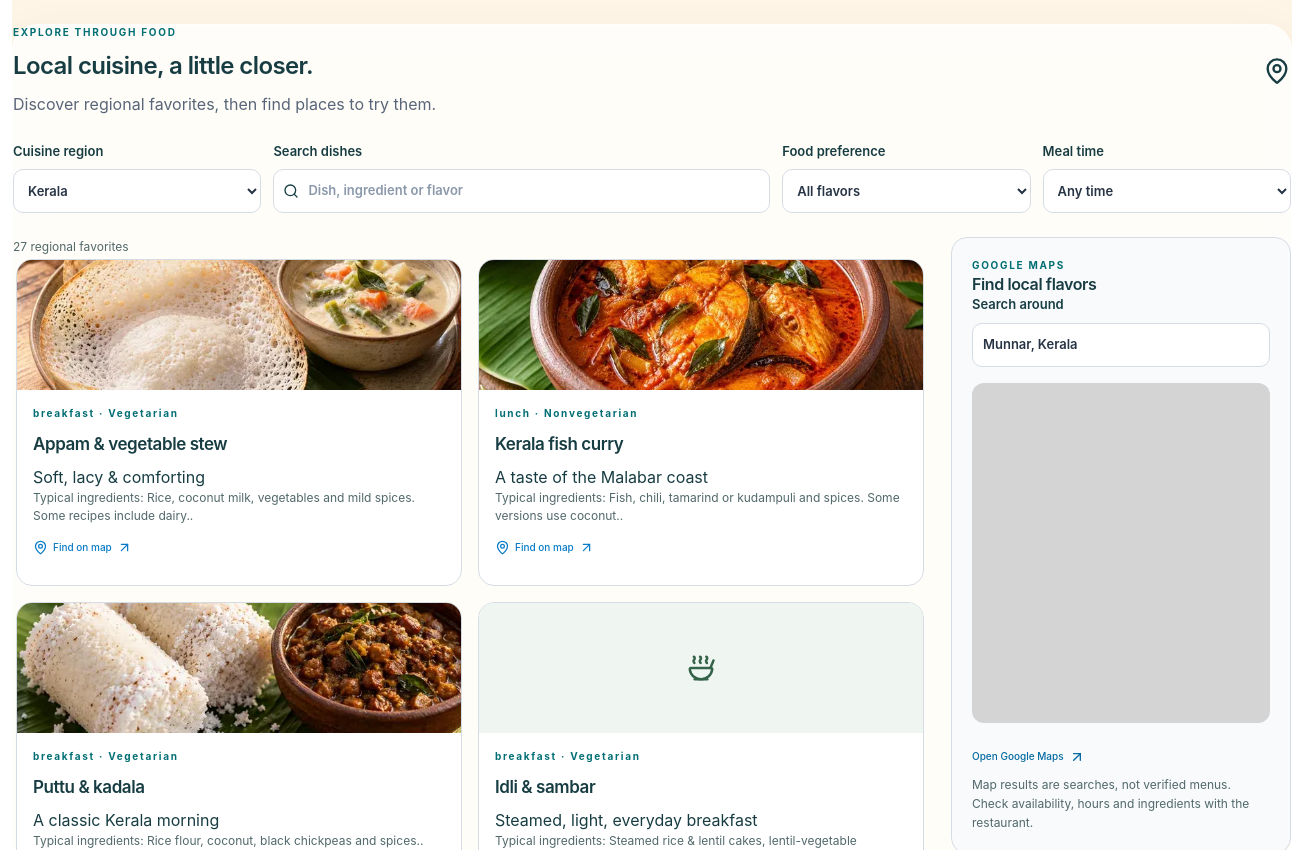
Test: filters dishes and updates Google Maps for the selected dish and destination
Type "puttu" into the field labelled "Search dishes" at (522, 191), box [273, 169, 770, 213]
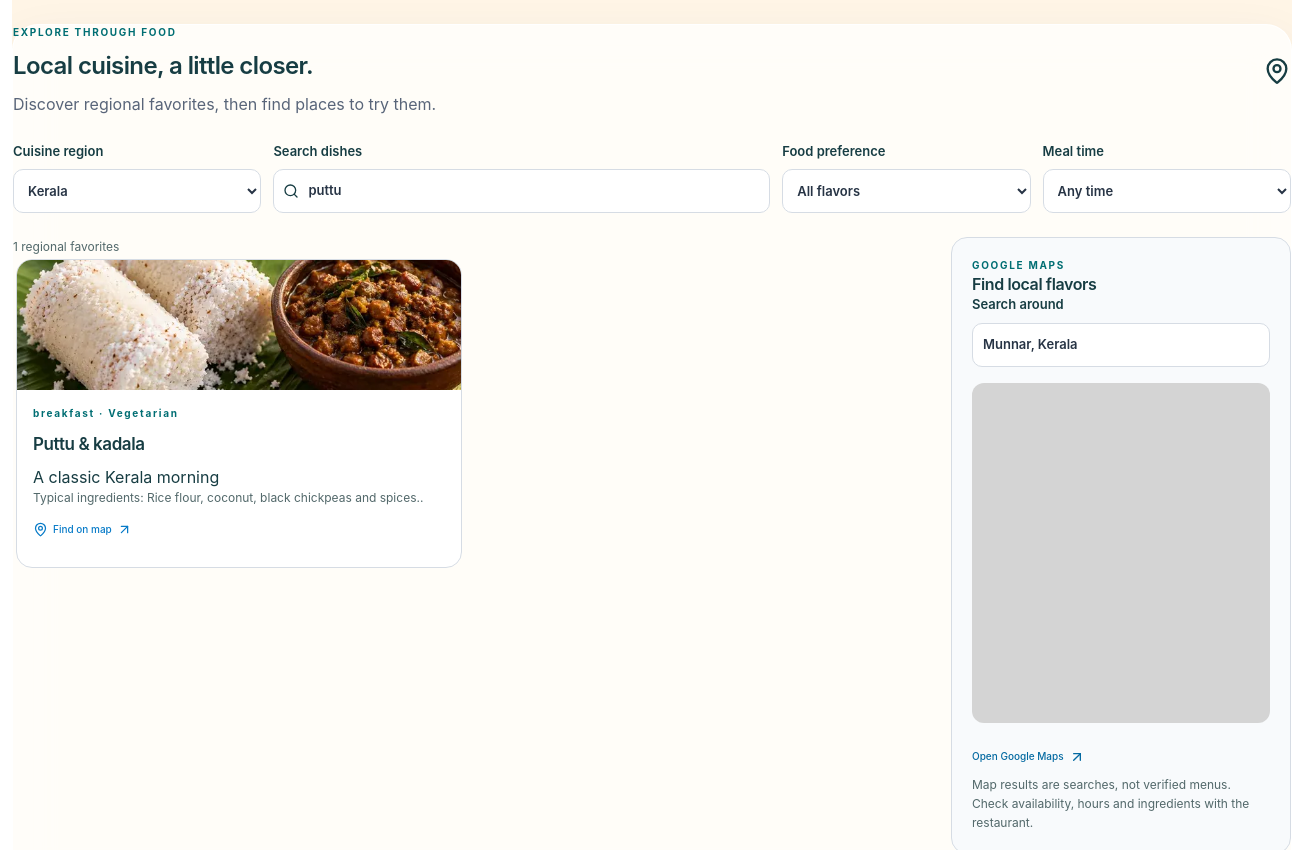
Click the button with aria-label "Find Puttu & kadala on map" at (82, 529), box [33, 507, 132, 551]
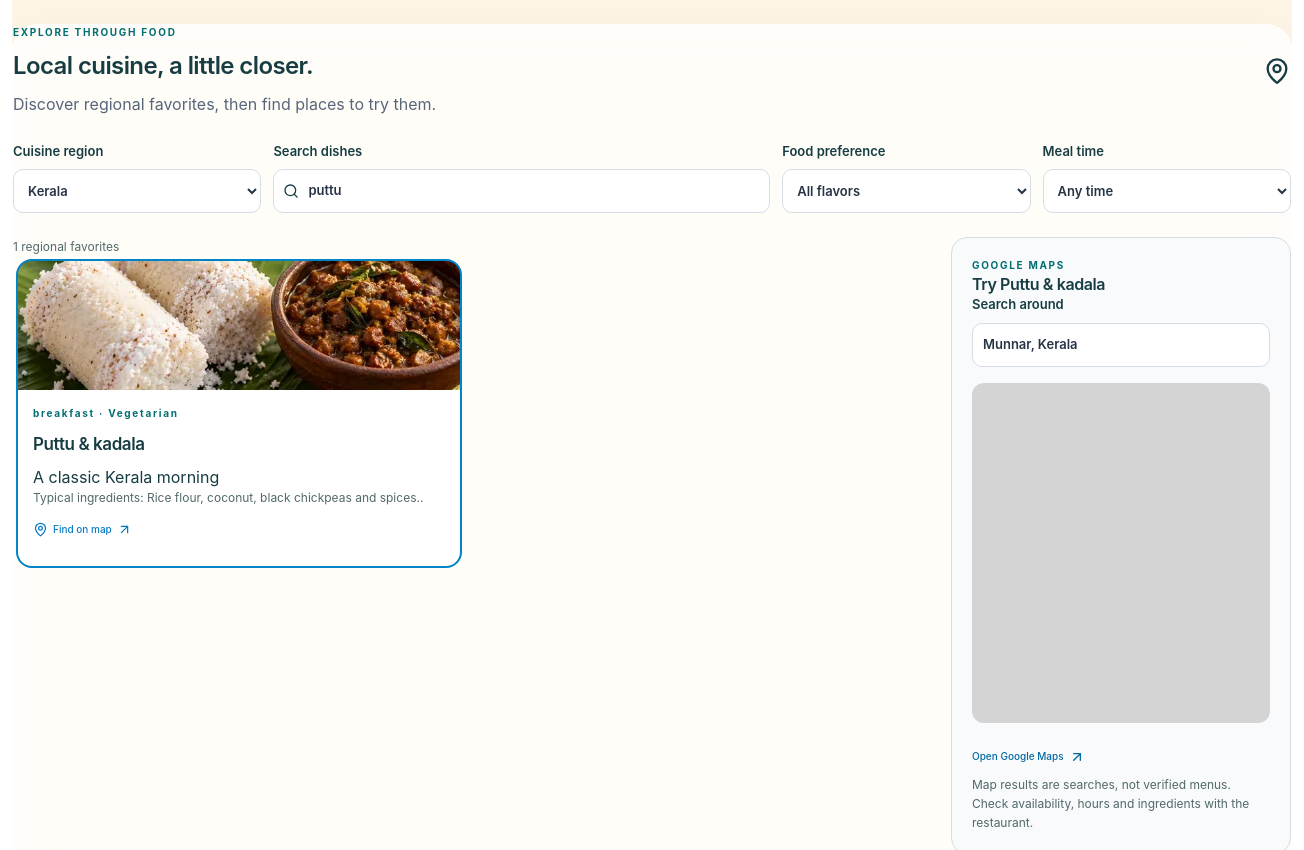
Replace the text in the field labelled "Search dishes" with "no-such-dish" at (522, 191), box [273, 169, 770, 213]
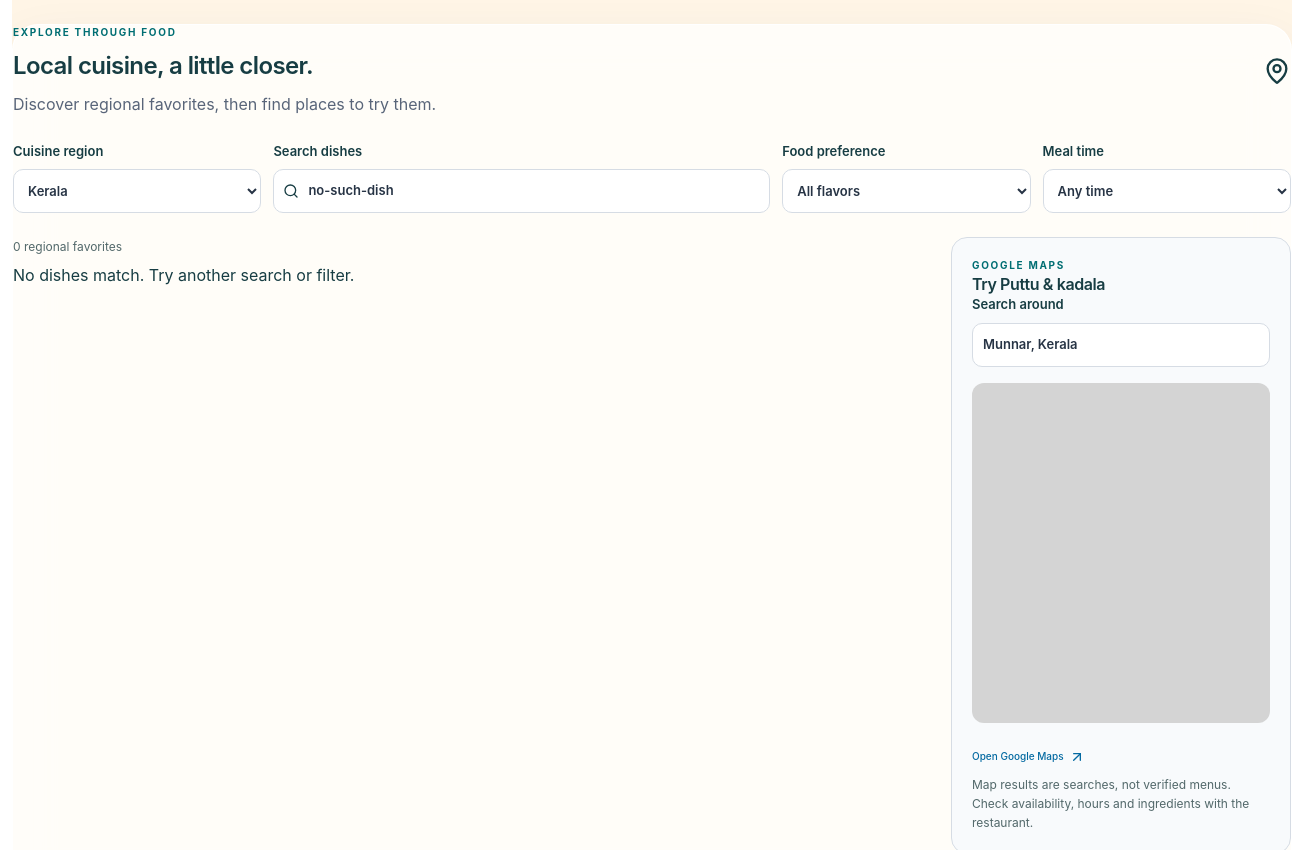
Check: the text "No dishes match. Try another search or filter." is shown, box [13, 265, 354, 285]
